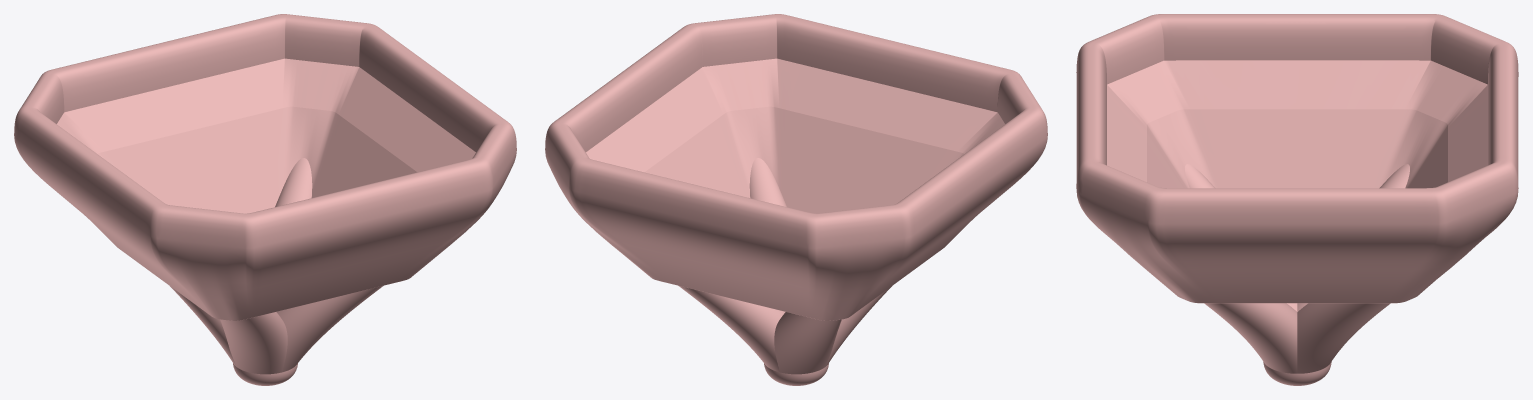
The model's file is Asscher-Bezel.glb.
3 views of the same model, side by side, from view 1: azimuth 30°, elevation 25°; view 2: azimuth 150°, elevation 25°; view 3: azimuth 270°, elevation 25° (orthographic). The views are drawn at different scales.
Parts seen in each view (by area): view 1: Radiant; view 2: Radiant; view 3: Radiant.
Part boxes in pixels (box(x1,y1,x2,y2)): Radiant: box(14, 14, 516, 385); Radiant: box(545, 14, 1047, 385); Radiant: box(1076, 14, 1518, 385).
Bounding box in the file's own units: 5.8 × 4.01 × 5.8.
